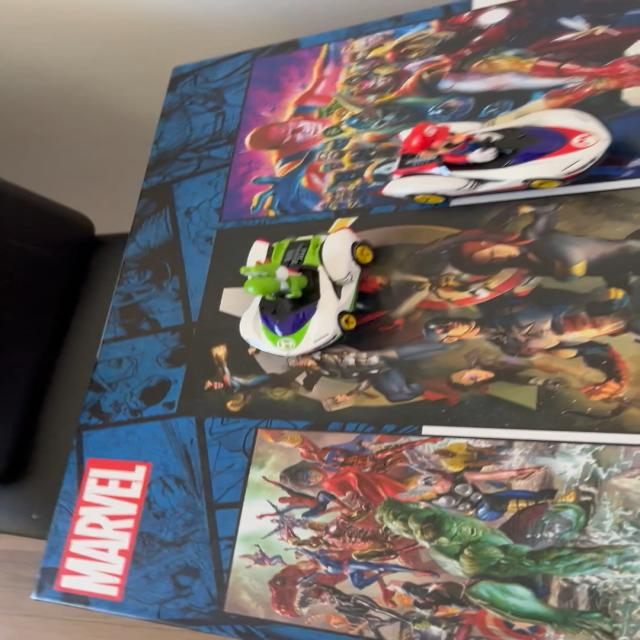mario: (368, 104, 638, 211)
yoshi: (205, 216, 384, 374)
